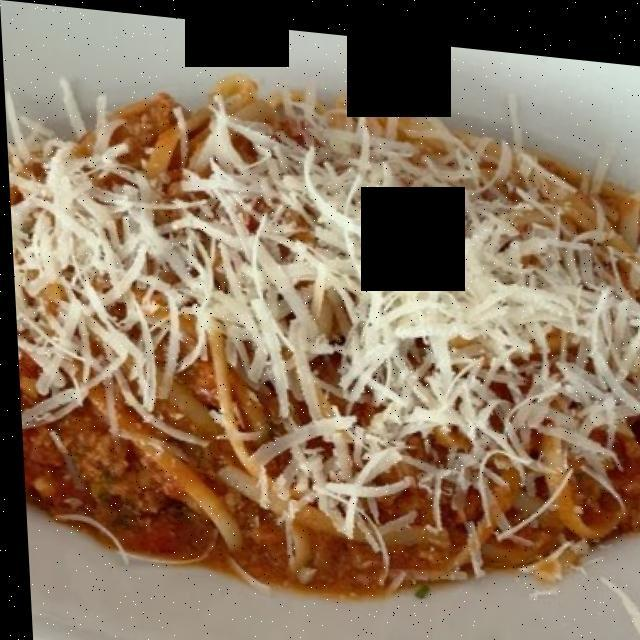bolognaise-sauce: (31, 394, 640, 591)
cheese: (13, 116, 639, 520)
pasta: (87, 70, 605, 566)
